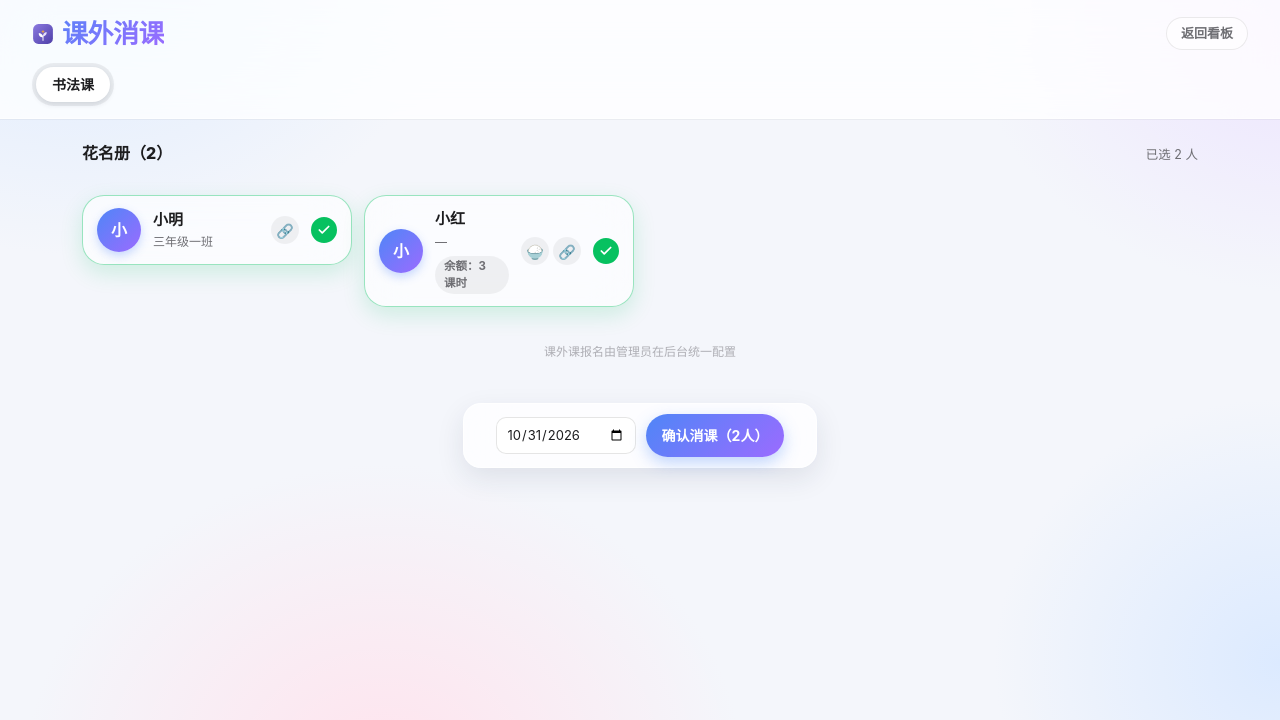
CourseConsumptionPage › closes the share-link modal via its 完成 button
expect the text "小明" is shown: met, box [153,210,183,229]
Click the button named "查看小明的家长专属链接" at (285, 230), box [271,216,299,244]
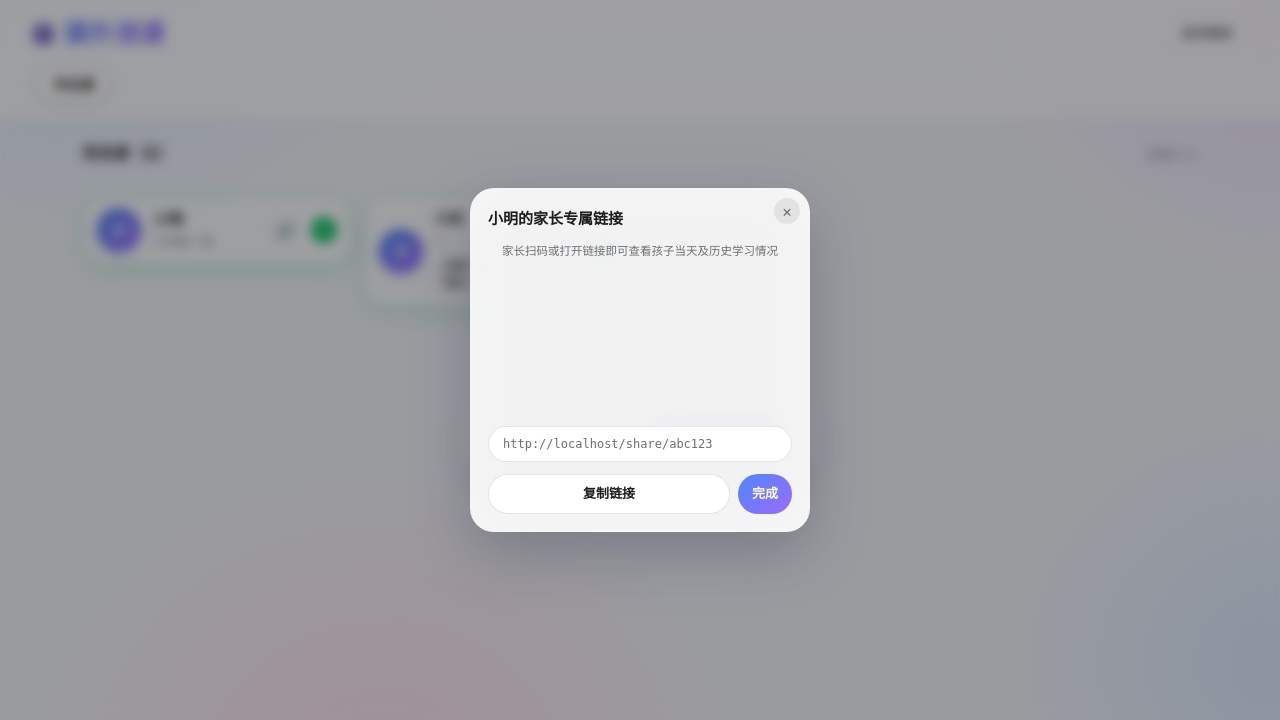
expect the dialog "家长专属链接" is shown: met, box [470,188,810,532]
Click the button "完成" at (765, 494), box [738,474,792,514]
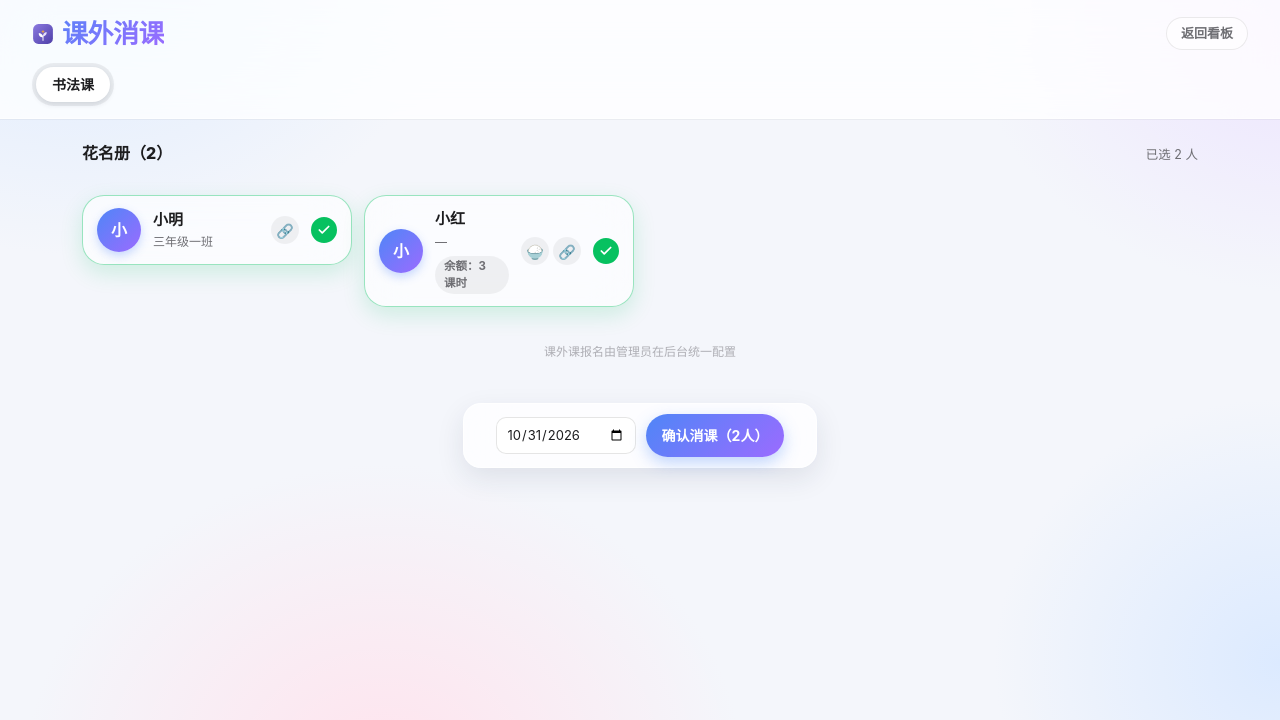
expect the text "家长专属链接" is gone: met
